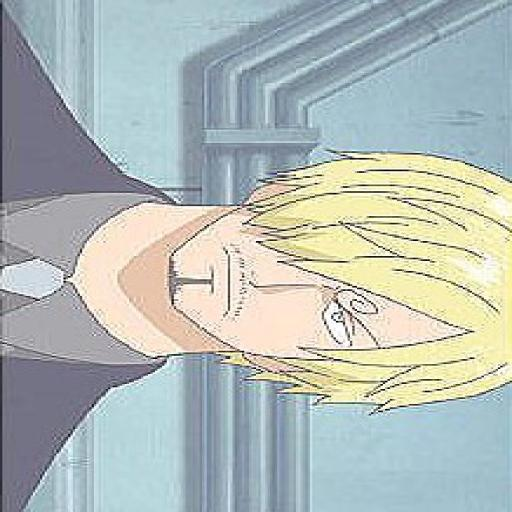sanji: (0, 8, 510, 507)
